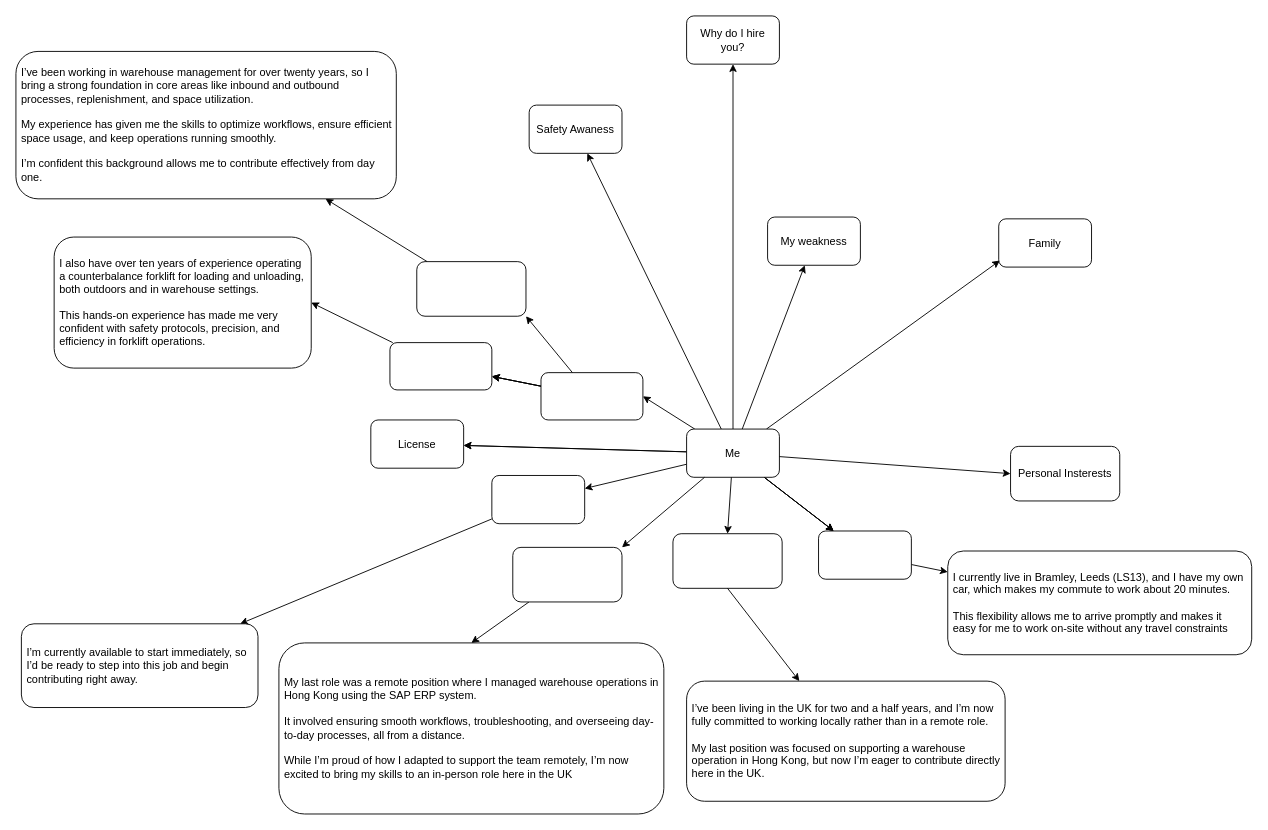
Some shapes in this 1268 by 830 pixel diagram are drawn without their labels. The centre of each missing label's shape, as x and y in pixels:
Current Job: the point at 538,499
Experienced: the point at 591,396
Forklift: the point at 440,366
Introduction: the point at 727,560
Location: the point at 864,554
Previous Job: the point at 567,574
Warehouse Management: the point at 471,288
